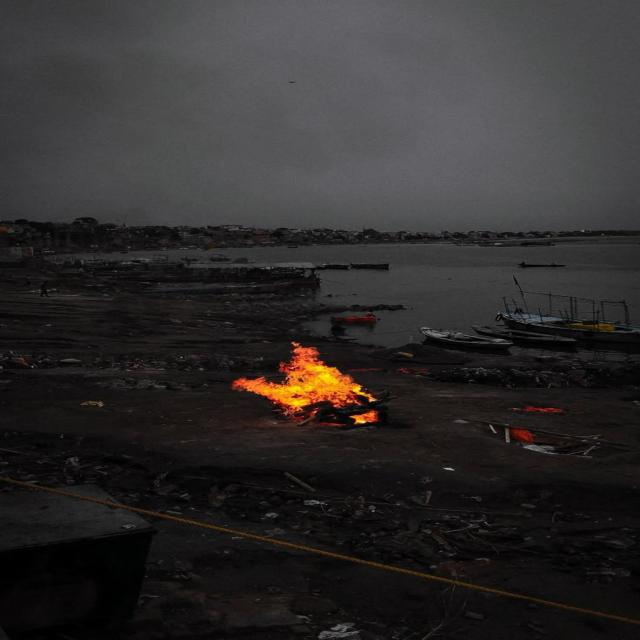fire: (231, 341, 376, 425)
